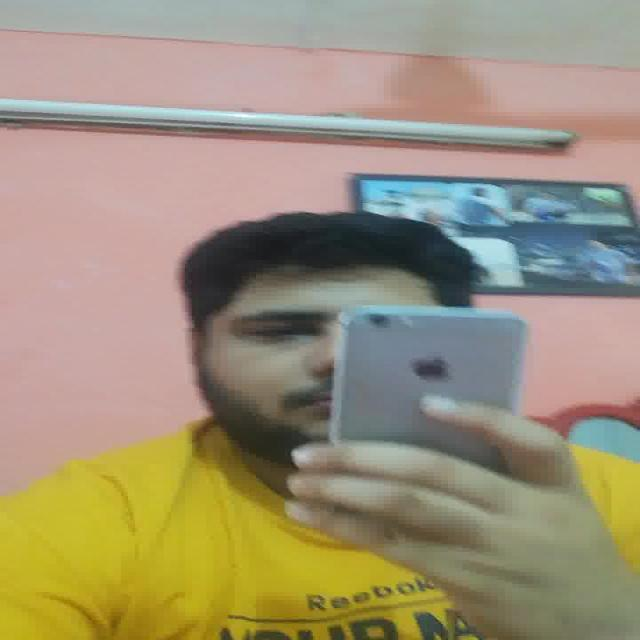Phone: (334, 304, 526, 441)
